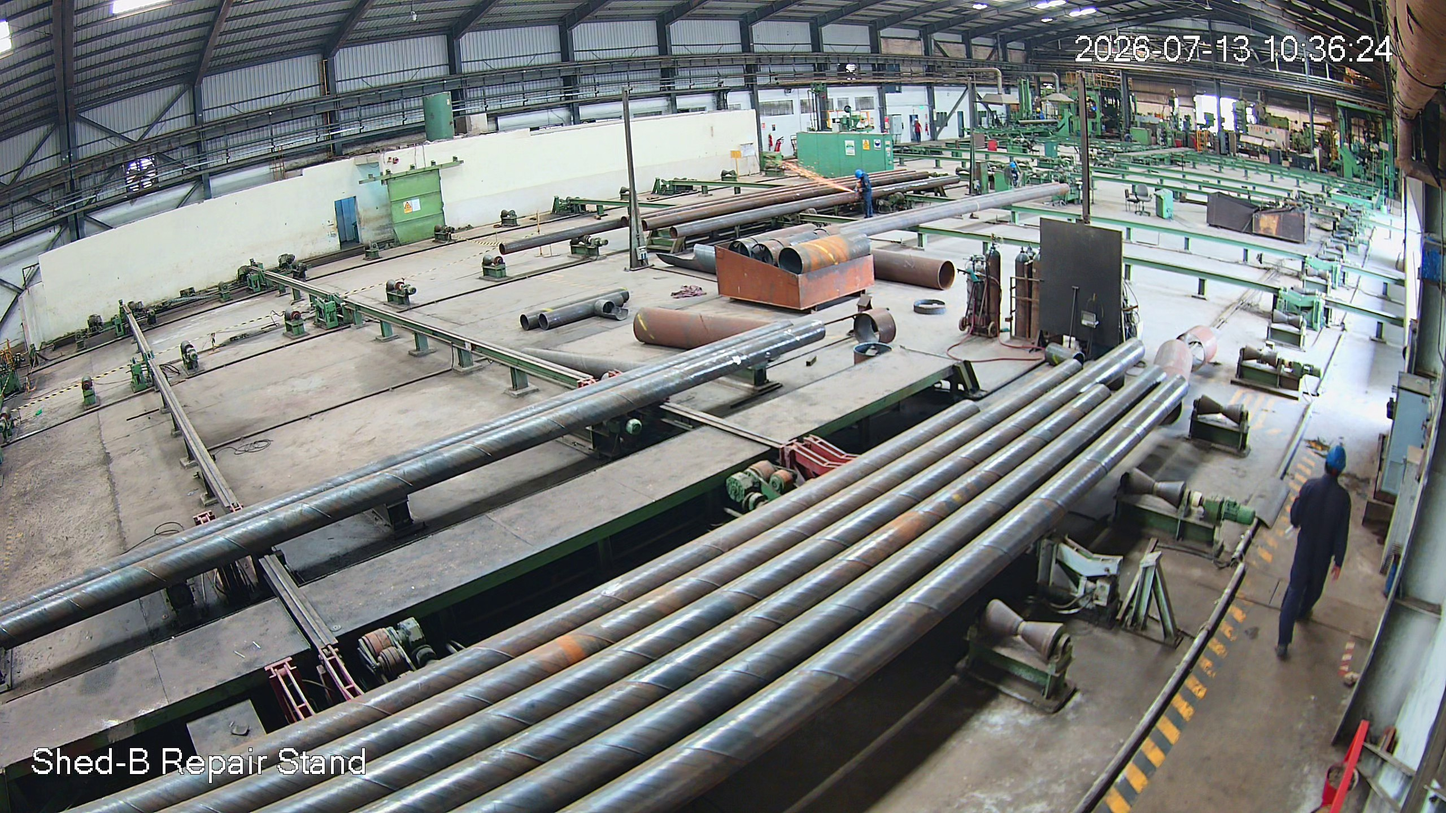Helmet: (1315, 441, 1355, 489)
Person: (1263, 448, 1355, 667)
